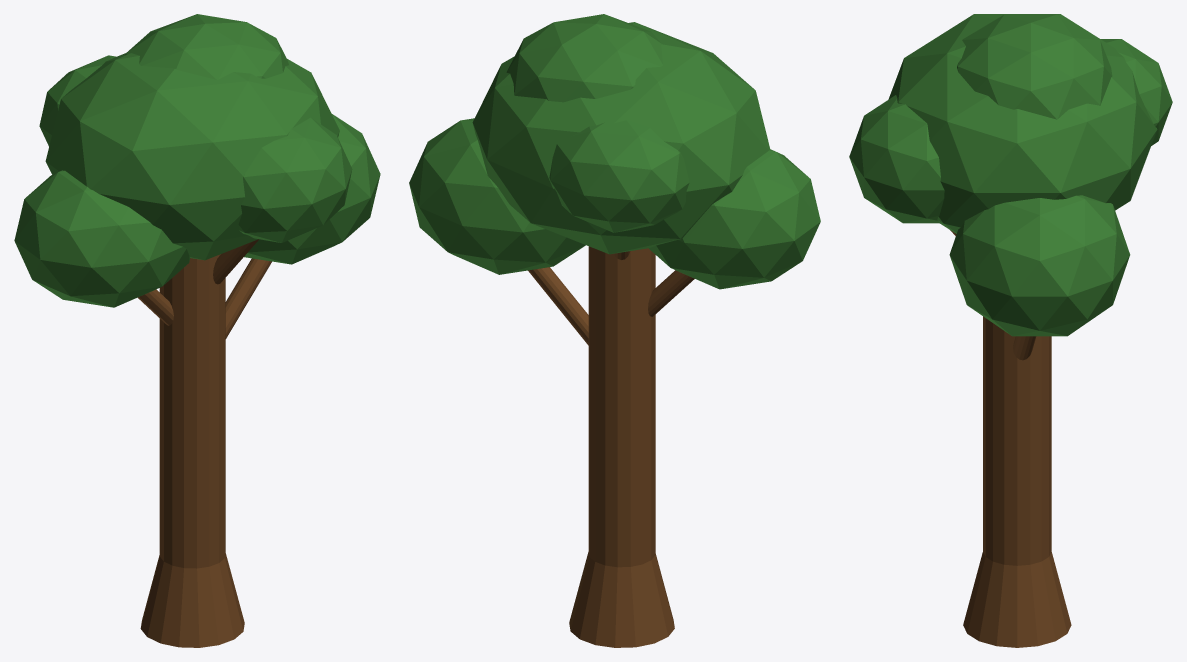
File: choppable_tree.glb
3 renders of one model, left to right at view 1: azimuth 30°, elevation 25°; view 2: azimuth 150°, elevation 25°; view 3: azimuth 270°, elevation 25°, orthographic. The views are drawn at different scales.
Parts seen in each view (by area): view 1: Leaf_Cluster_0, Trunk, Leaf_Cluster_2, Leaf_Cluster_3, Natural_Root_Flare, Leaf_Cluster_5, Leaf_Cluster_1, Leaf_Cluster_4, Branch_0, Branch_2, Branch_1; view 2: Leaf_Cluster_0, Trunk, Leaf_Cluster_2, Leaf_Cluster_1, Leaf_Cluster_4, Leaf_Cluster_5, Natural_Root_Flare, Branch_0, Branch_1; view 3: Leaf_Cluster_0, Leaf_Cluster_1, Trunk, Leaf_Cluster_5, Leaf_Cluster_3, Natural_Root_Flare, Leaf_Cluster_4.
Boxes of the visible parts, bbox=[...] form: Leaf_Cluster_0: bbox=[45, 53, 339, 260]; Trunk: bbox=[159, 254, 225, 568]; Leaf_Cluster_2: bbox=[14, 170, 190, 307]; Leaf_Cluster_3: bbox=[238, 117, 352, 242]; Natural_Root_Flare: bbox=[140, 553, 244, 647]; Leaf_Cluster_5: bbox=[125, 14, 288, 79]; Leaf_Cluster_1: bbox=[244, 114, 380, 264]; Leaf_Cluster_4: bbox=[39, 55, 115, 146]; Branch_0: bbox=[225, 258, 271, 338]; Branch_2: bbox=[213, 239, 258, 284]; Branch_1: bbox=[137, 289, 173, 325]; Leaf_Cluster_0: bbox=[472, 22, 770, 254]; Trunk: bbox=[588, 246, 655, 567]; Leaf_Cluster_2: bbox=[649, 149, 820, 289]; Leaf_Cluster_1: bbox=[409, 118, 585, 274]; Leaf_Cluster_4: bbox=[549, 120, 689, 232]; Leaf_Cluster_5: bbox=[506, 14, 662, 102]; Natural_Root_Flare: bbox=[569, 552, 674, 647]; Branch_0: bbox=[528, 267, 588, 345]; Branch_1: bbox=[648, 270, 694, 316]; Leaf_Cluster_0: bbox=[888, 14, 1157, 233]; Leaf_Cluster_1: bbox=[949, 195, 1130, 336]; Trunk: bbox=[983, 316, 1051, 565]; Leaf_Cluster_5: bbox=[957, 14, 1112, 119]; Leaf_Cluster_3: bbox=[849, 95, 944, 223]; Natural_Root_Flare: bbox=[963, 552, 1071, 647]; Leaf_Cluster_4: bbox=[1101, 39, 1172, 145].
Size of the model in its own units: 4.74 by 7.47 by 3.58.
